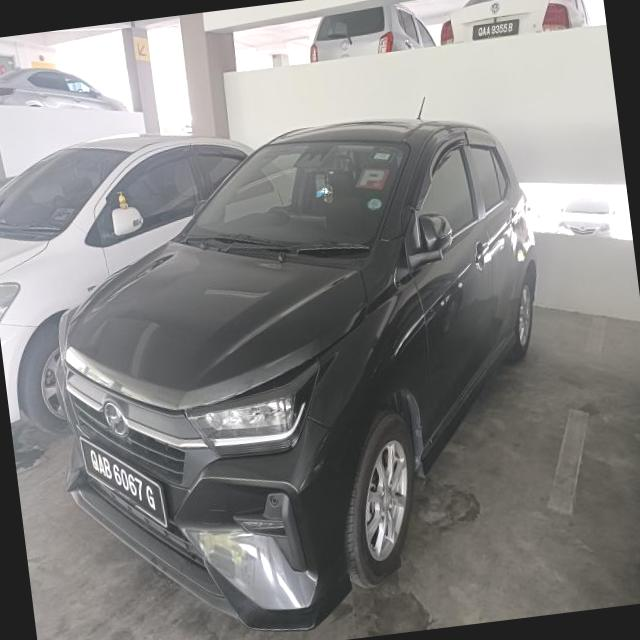PeroduaAxia: (22, 86, 580, 640)
